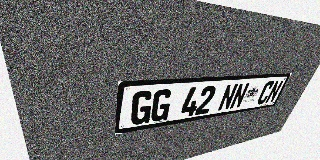2: (195, 85, 217, 115)
4: (179, 86, 203, 118)
C: (255, 81, 275, 105)
G: (130, 90, 154, 126), (150, 89, 173, 123)
N: (217, 84, 239, 111), (229, 83, 250, 109), (264, 80, 284, 103)
